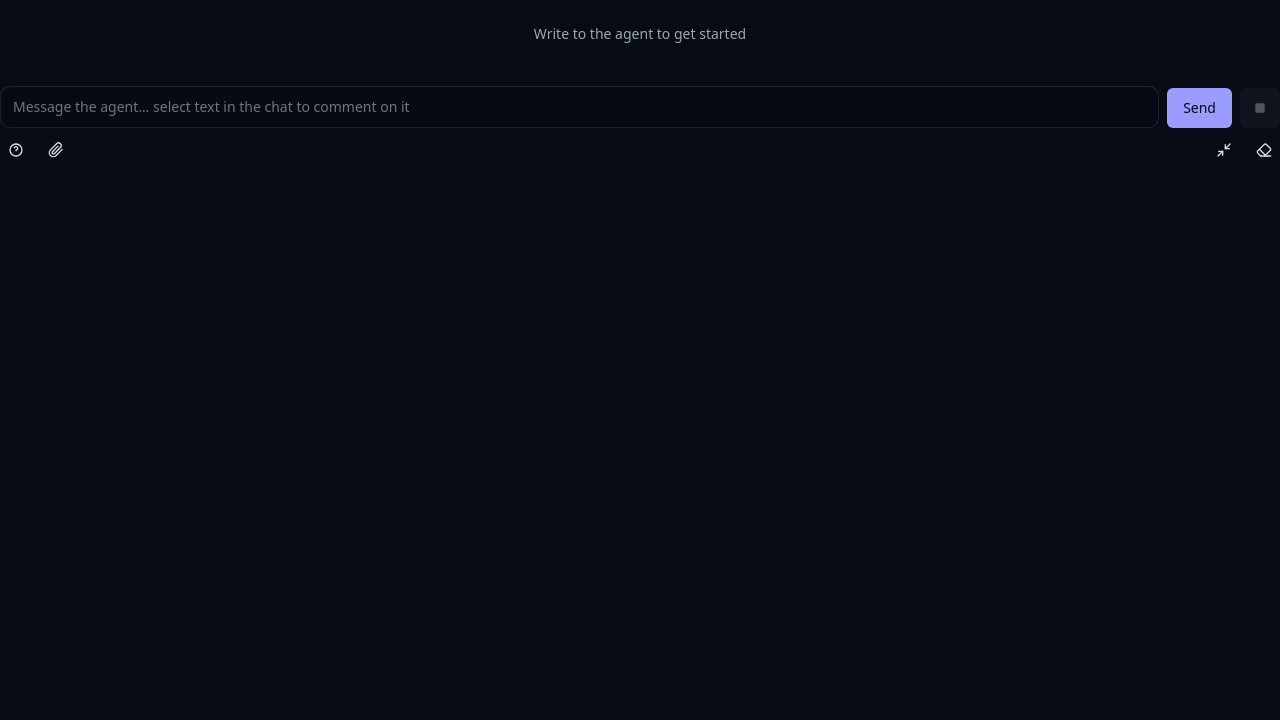
Test: a Clear refused because the agent turned busy after the dialog opened shows the short note
This screenshot has width=1280, height=720.
Click the button named "Clear context" at point(1264, 150), box x1=1248 y1=134 x2=1279 y2=166
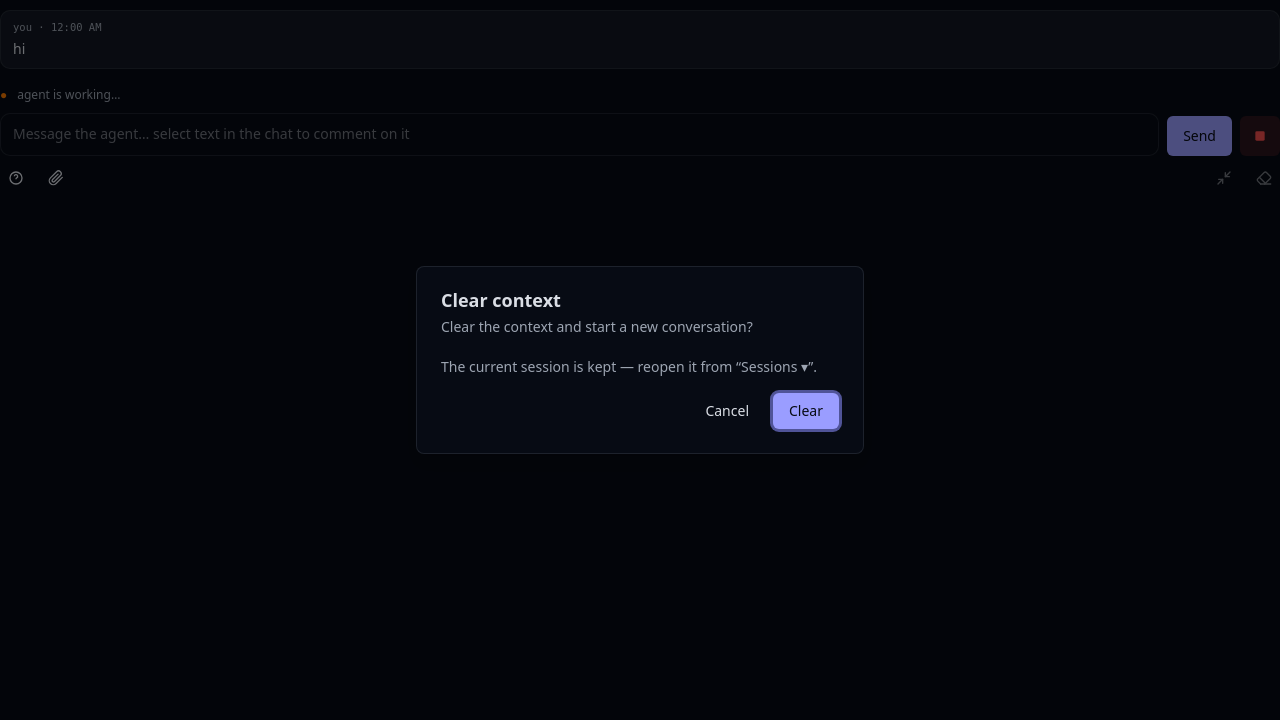
Expected: the dialog is shown, x1=416 y1=266 x2=864 y2=454
Press Enter
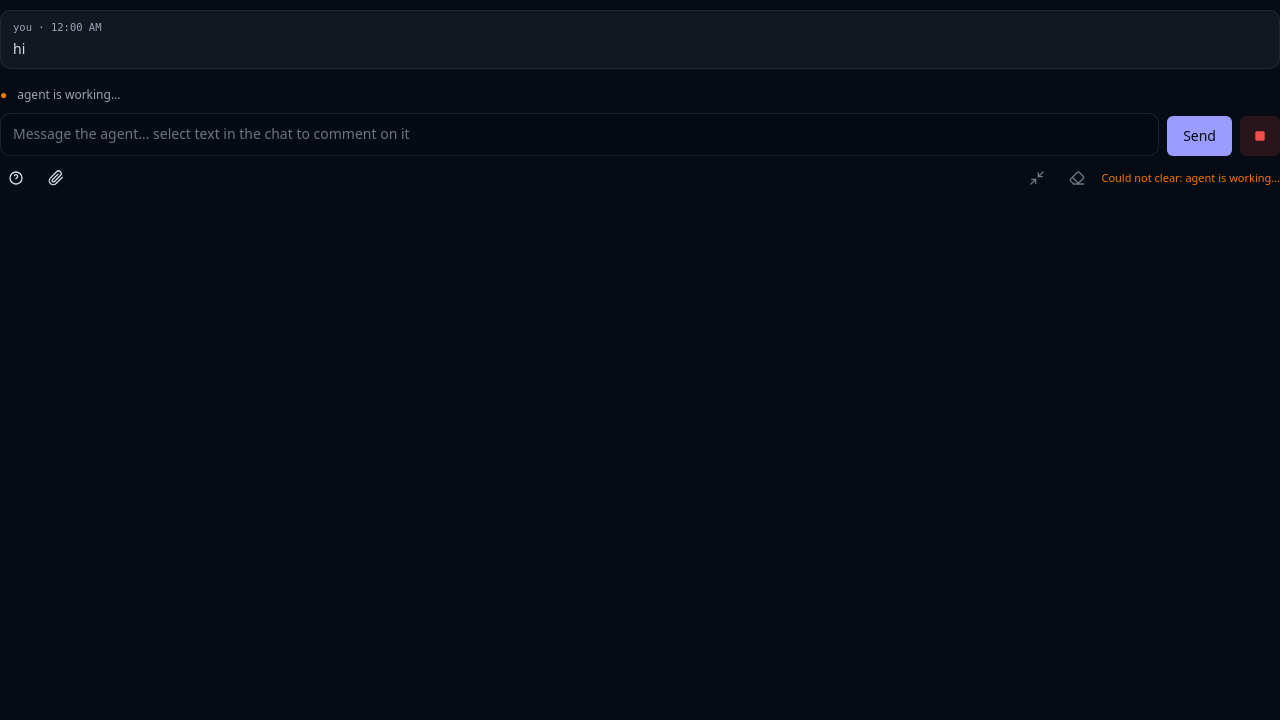
Expected: the message reads "Could not clear: agent is working…", x1=1101 y1=170 x2=1279 y2=185
